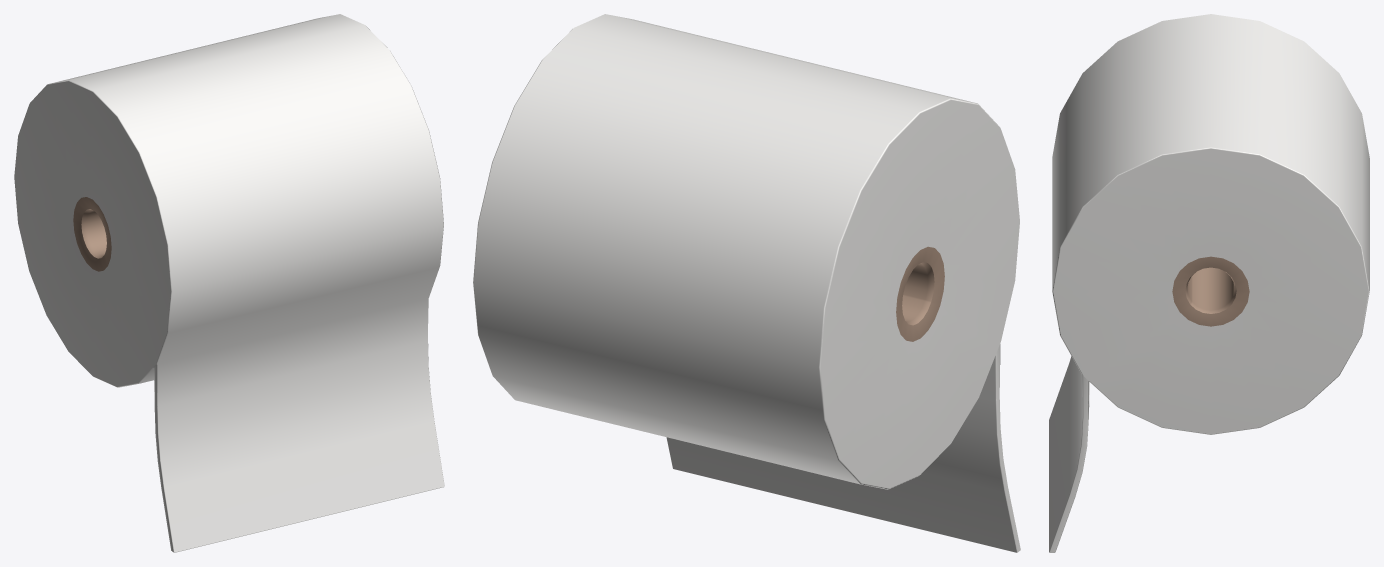
Rendered from Toilet_Paper_3.glb.
3 views of the same model, side by side, from view 1: azimuth 30°, elevation 25°; view 2: azimuth 150°, elevation 25°; view 3: azimuth 270°, elevation 25° (orthographic). The views are drawn at different scales.
Visible parts, largest first — view 1: Toilet_Paper_3; view 2: Toilet_Paper_3; view 3: Toilet_Paper_3.
Boxes of the visible parts, bbox=[...] form: Toilet_Paper_3: bbox=[14, 14, 444, 552]; Toilet_Paper_3: bbox=[473, 14, 1020, 552]; Toilet_Paper_3: bbox=[1049, 14, 1369, 552].
Bounding box in the file's own units: 0.1987 × 0.2804 × 0.2006.
1 material, 1 textured.
